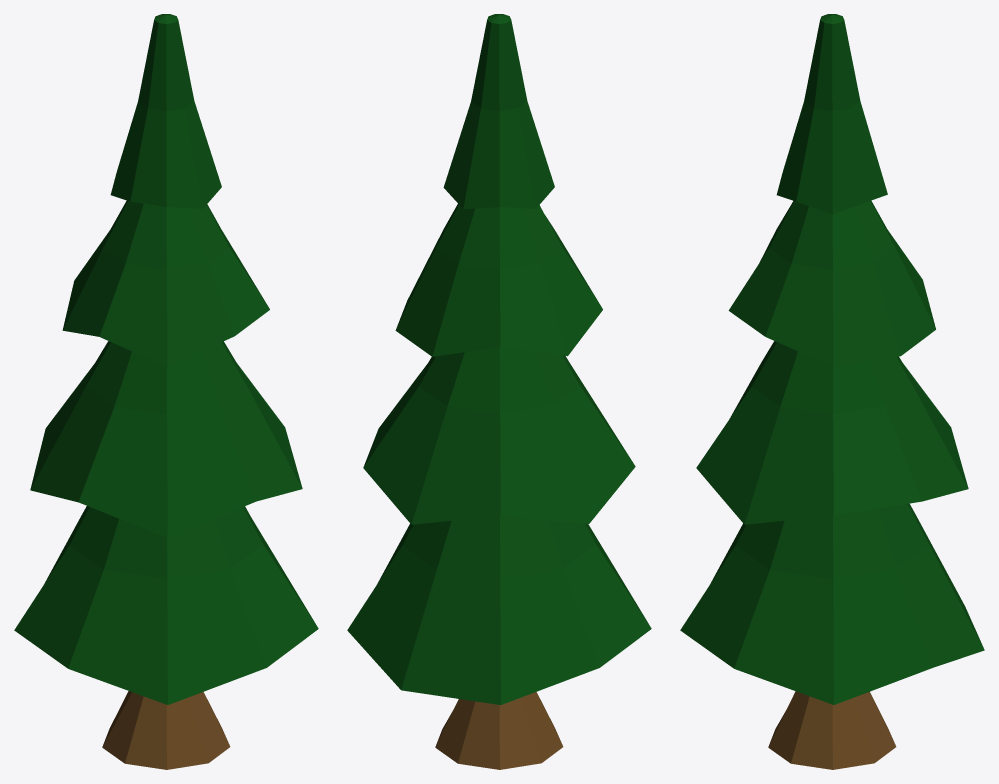
The model's file is Tree 2.fbx.
3 views of the same model, side by side, from view 1: azimuth 30°, elevation 25°; view 2: azimuth 150°, elevation 25°; view 3: azimuth 270°, elevation 25° (orthographic).
Parts seen in each view (by area): view 1: Tree_1; view 2: Tree_1; view 3: Tree_1.
Boxes of the visible parts, box(x1,y1,x2,y2) form: Tree_1: box(14, 14, 318, 769); Tree_1: box(347, 14, 651, 769); Tree_1: box(680, 14, 984, 769).
Size of the model in its own units: 1.98 by 2.01 by 5.3.
